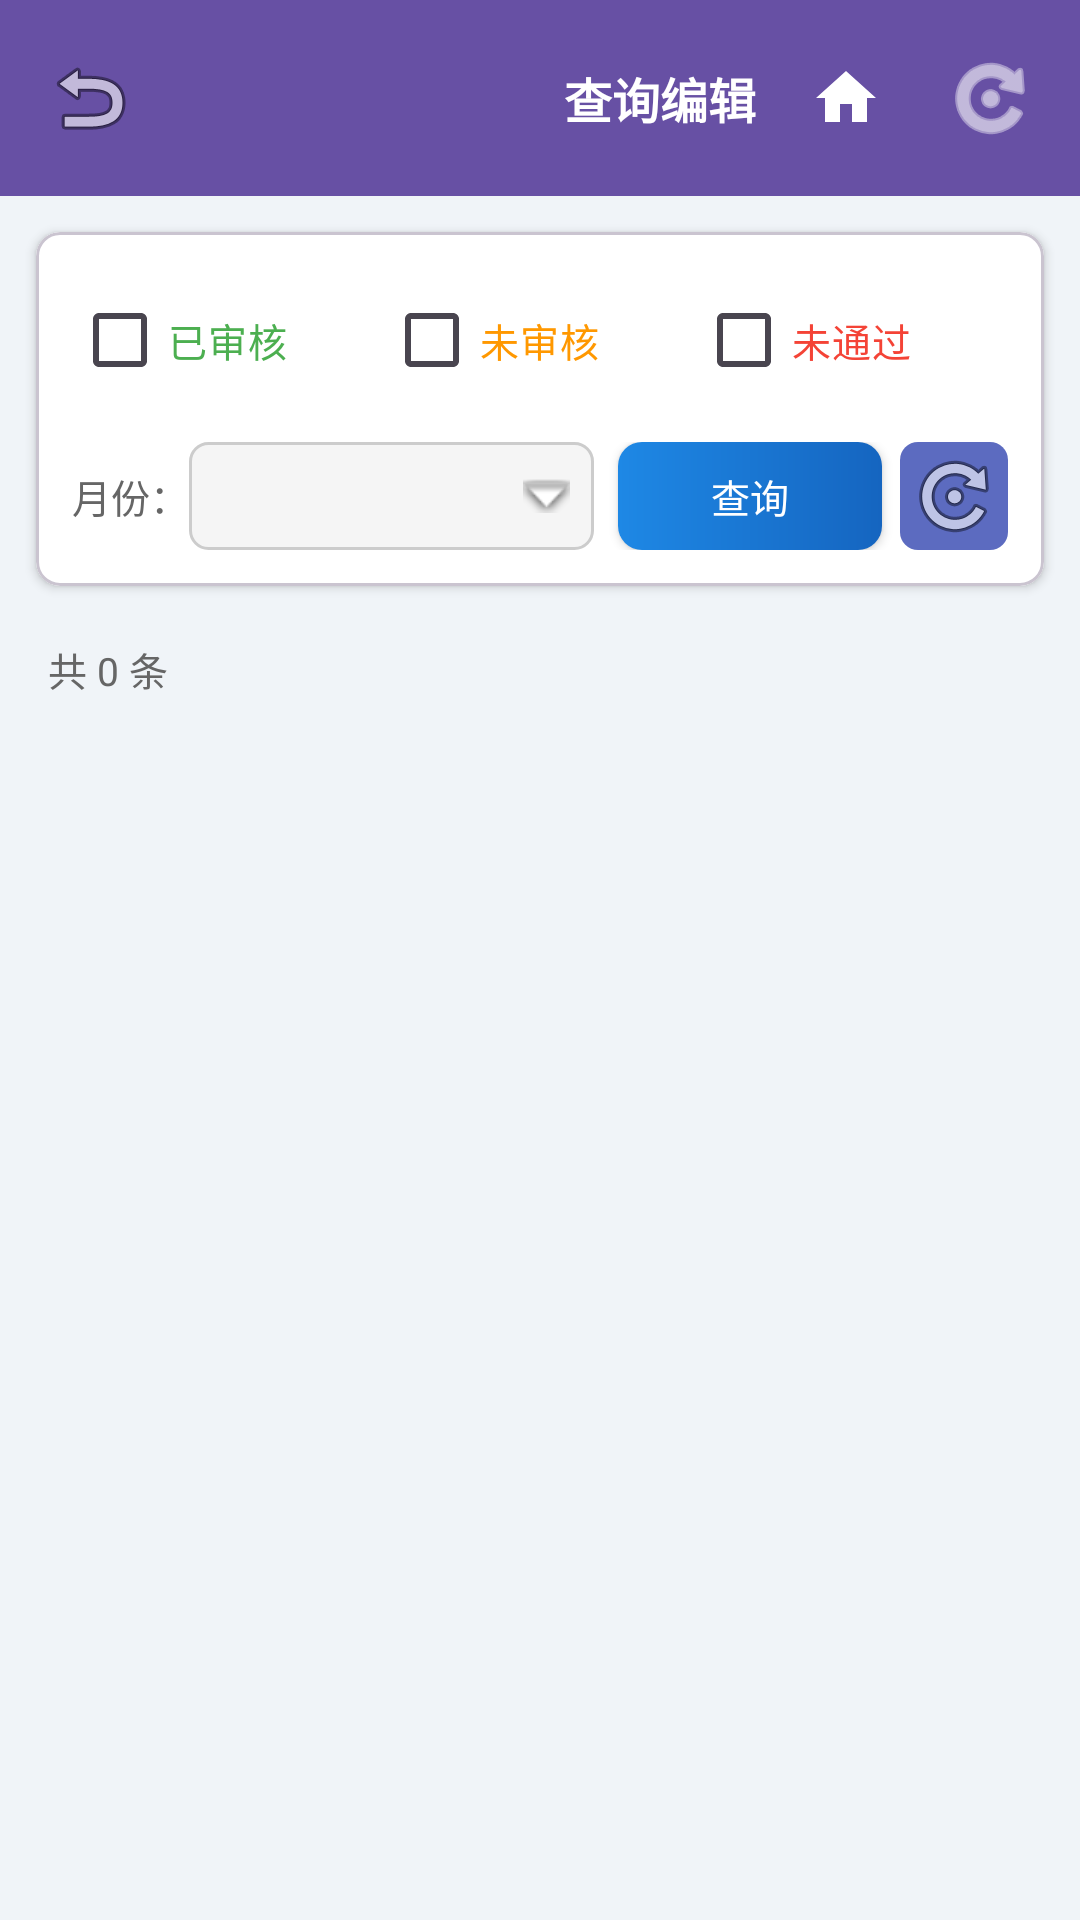

Where to tap for icons on this 1080 x 1920 app screen, as point (x, y):
主页面: point (846, 96)
刷新: point (990, 98), point (954, 496)
返回: point (91, 98)
